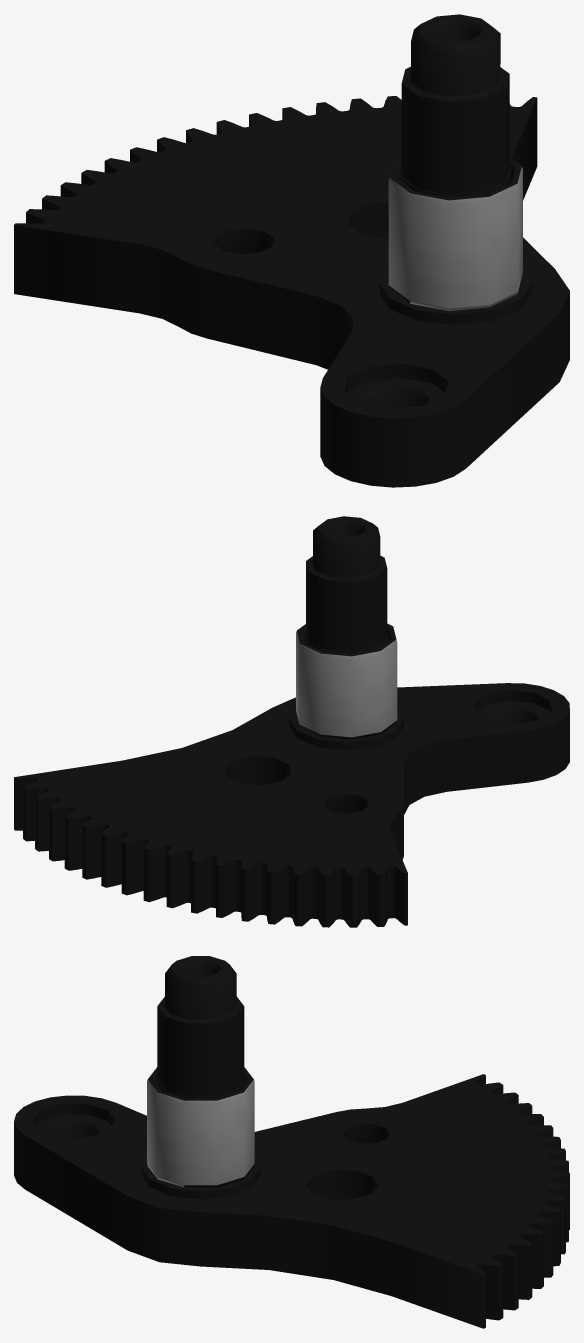
3 renders of one model, top to bottom at view 1: azimuth 30°, elevation 25°; view 2: azimuth 150°, elevation 25°; view 3: azimuth 270°, elevation 25°, orthographic. The views are drawn at different scales.
Parts seen in each view (by area): view 1: obj1; view 2: obj1; view 3: obj1.
Boxes of the visible parts, x1,y1,x2,y2 form: obj1: (14, 14, 569, 487); obj1: (14, 516, 569, 927); obj1: (14, 956, 569, 1328).
Bounding box in the file's own units: 0.0793 × 0.048 × 0.0929.
Materials: 2 (1 with a texture image).
